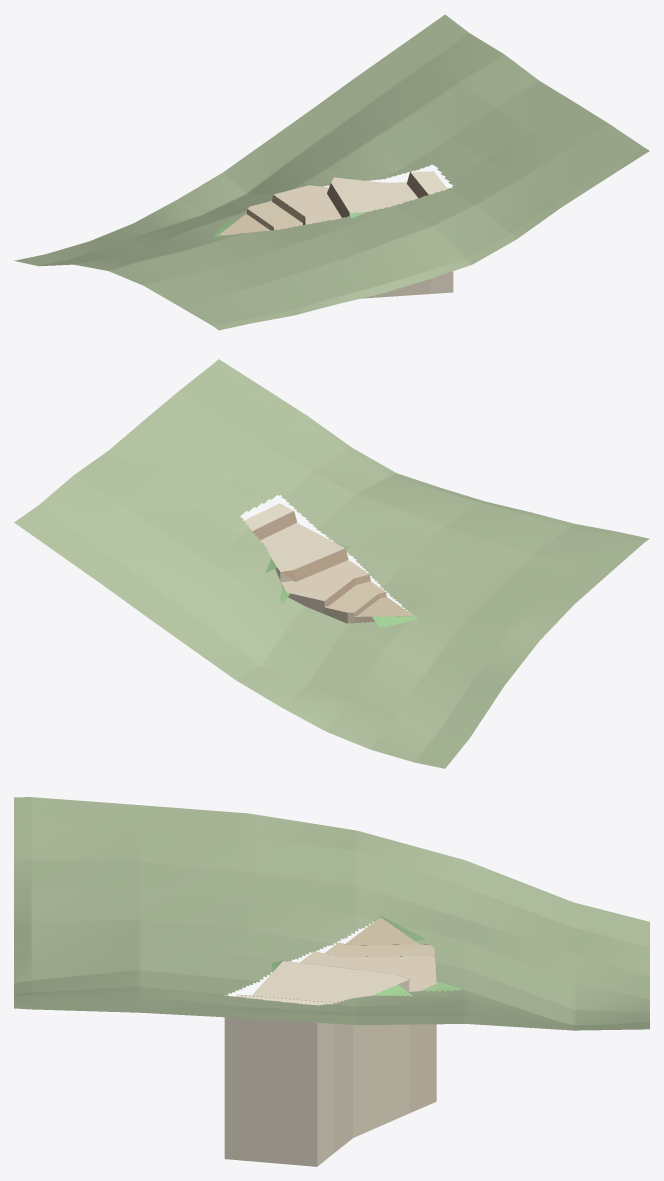
Rendered from terrain.glb.
The picture shows the model from 3 angles, top to bottom: view 1: azimuth 30°, elevation 25°; view 2: azimuth 150°, elevation 25°; view 3: azimuth 270°, elevation 25°; orthographic projection. The views are drawn at different scales.
Visible parts, largest first — view 1: Terrain_outside, Terrace_2, Terrace_3, Terrace_1, Terrace_4, Terrace_5; view 2: Terrain_outside, Terrace_2, Terrace_3, Terrace_4, Face_T2_T3, Terrace_5, Terrace_1; view 3: Terrain_outside, Terrace_1, Terrace_2, Terrace_3, Terrace_4, Terrace_5, Slopes_B_neighbour.
Part boxes in pixels (bbox=[...]): Terrain_outside: bbox=[14, 14, 649, 330]; Terrace_2: bbox=[331, 177, 430, 298]; Terrace_3: bbox=[273, 185, 341, 224]; Terrace_1: bbox=[410, 171, 453, 293]; Terrace_4: bbox=[247, 201, 302, 230]; Terrace_5: bbox=[219, 214, 270, 236]; Terrain_outside: bbox=[14, 359, 649, 768]; Terrace_2: bbox=[260, 523, 344, 582]; Terrace_3: bbox=[281, 560, 369, 613]; Terrace_4: bbox=[324, 581, 385, 623]; Face_T2_T3: bbox=[281, 548, 348, 581]; Terrace_5: bbox=[354, 596, 413, 623]; Terrace_1: bbox=[244, 503, 293, 532]; Terrain_outside: bbox=[14, 797, 649, 1030]; Terrace_1: bbox=[224, 995, 334, 1166]; Terrace_2: bbox=[251, 961, 409, 1152]; Terrace_3: bbox=[299, 951, 436, 1113]; Terrace_4: bbox=[324, 942, 434, 956]; Terrace_5: bbox=[345, 917, 419, 945]; Slopes_B_neighbour: bbox=[271, 916, 460, 996].
Size of the model in its own units: 220 by 77.95 by 181.
